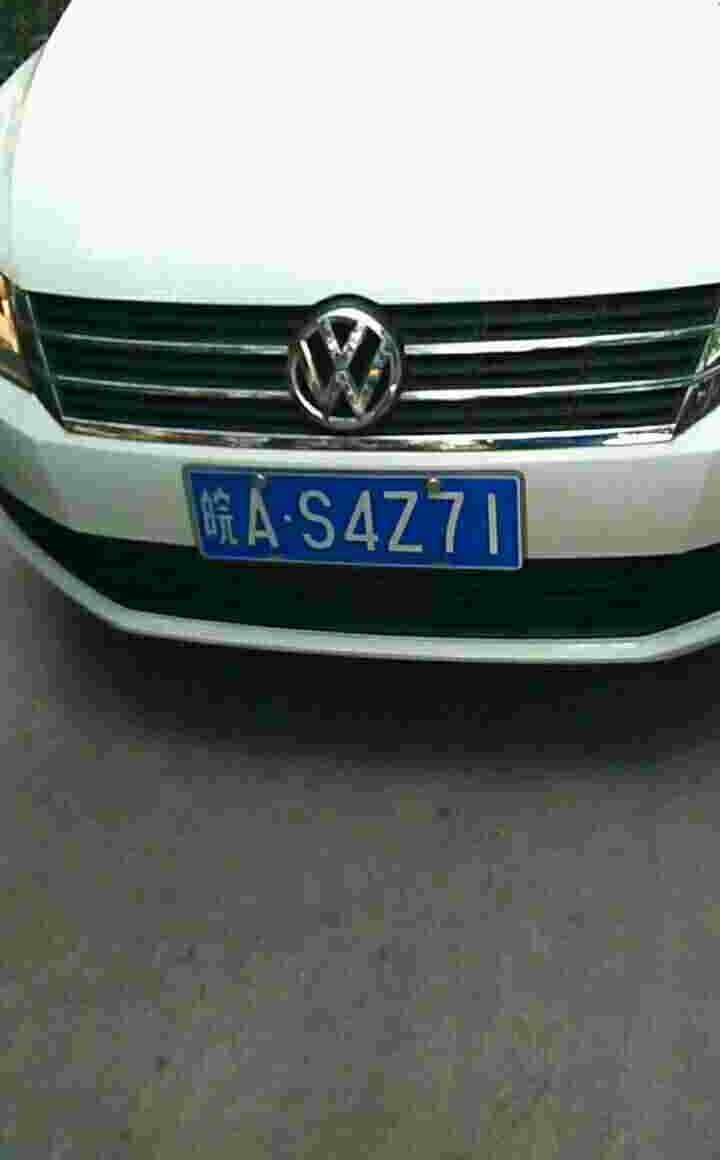license_plate: (183, 463, 518, 580)
